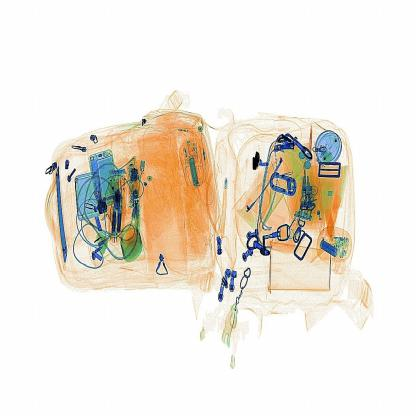knife: (248, 147, 264, 178)
